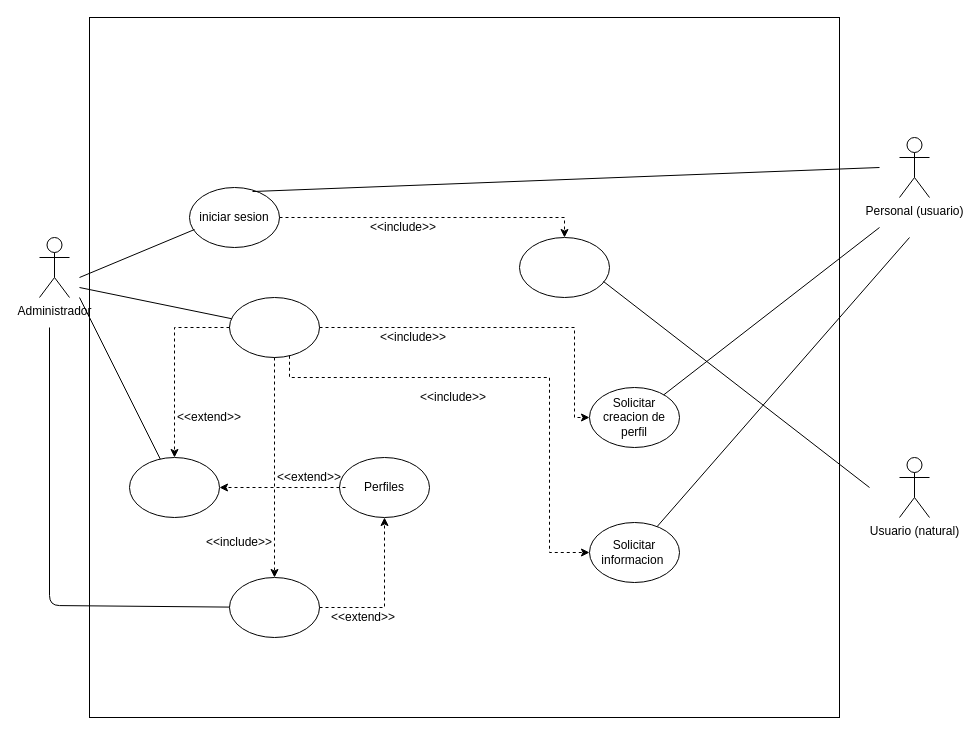
This 980x735 diagram has some shape labels left out. Each missing label, with the centre of its shape:
Crear perfiles: the point at 174,487
Identificar y autentificar usuario: the point at 564,267
Modificar perfiles: the point at 274,607
Validar solicitud: the point at 274,327
